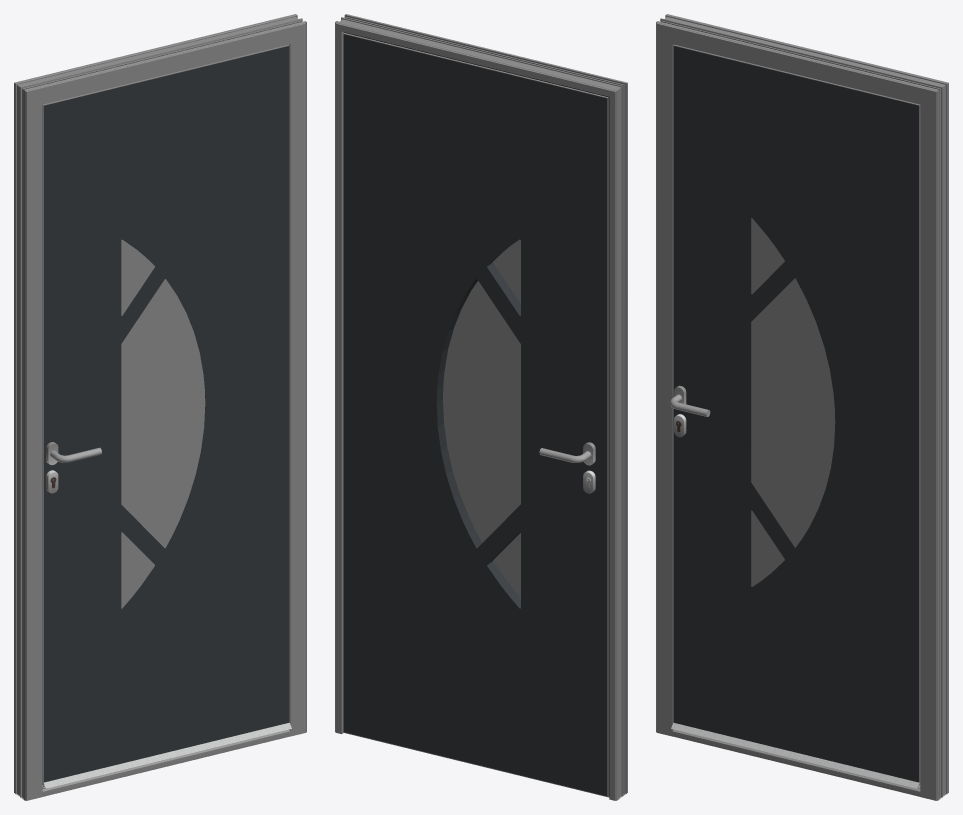
3 views of the same model, side by side, from view 1: azimuth 30°, elevation 25°; view 2: azimuth 150°, elevation 25°; view 3: azimuth 330°, elevation 25° (orthographic).
Visible parts, largest first — view 1: bloco_12, aroFixo, Box001, aroMovel, rodapé, escovas, puxador001; view 2: bloco_12, aroFixo, Box002, aroMovel, puxador; view 3: bloco_12, aroFixo, Box001, aroMovel, rodapé, escovas, puxador001.
Boxes of the visible parts, box(x1,y1,x2,y2) form: bloco_12: box(44, 46, 289, 782); aroFixo: box(14, 14, 306, 800); Box001: box(121, 239, 205, 608); aroMovel: box(42, 44, 289, 784); rodapé: box(42, 729, 290, 796); escovas: box(42, 722, 291, 788); puxador001: box(46, 442, 101, 493); bloco_12: box(343, 34, 607, 796); aroFixo: box(335, 14, 627, 800); Box002: box(443, 239, 520, 597); aroMovel: box(343, 32, 609, 796); puxador: box(539, 442, 595, 493); bloco_12: box(673, 46, 918, 782); aroFixo: box(656, 14, 948, 800); Box001: box(751, 218, 835, 586); aroMovel: box(673, 44, 920, 784); rodapé: box(672, 729, 920, 796); escovas: box(671, 722, 920, 788); puxador001: box(669, 385, 710, 437).
Size of the model in its own units: 900 by 2165 by 209.
9 materials, 4 textured.
